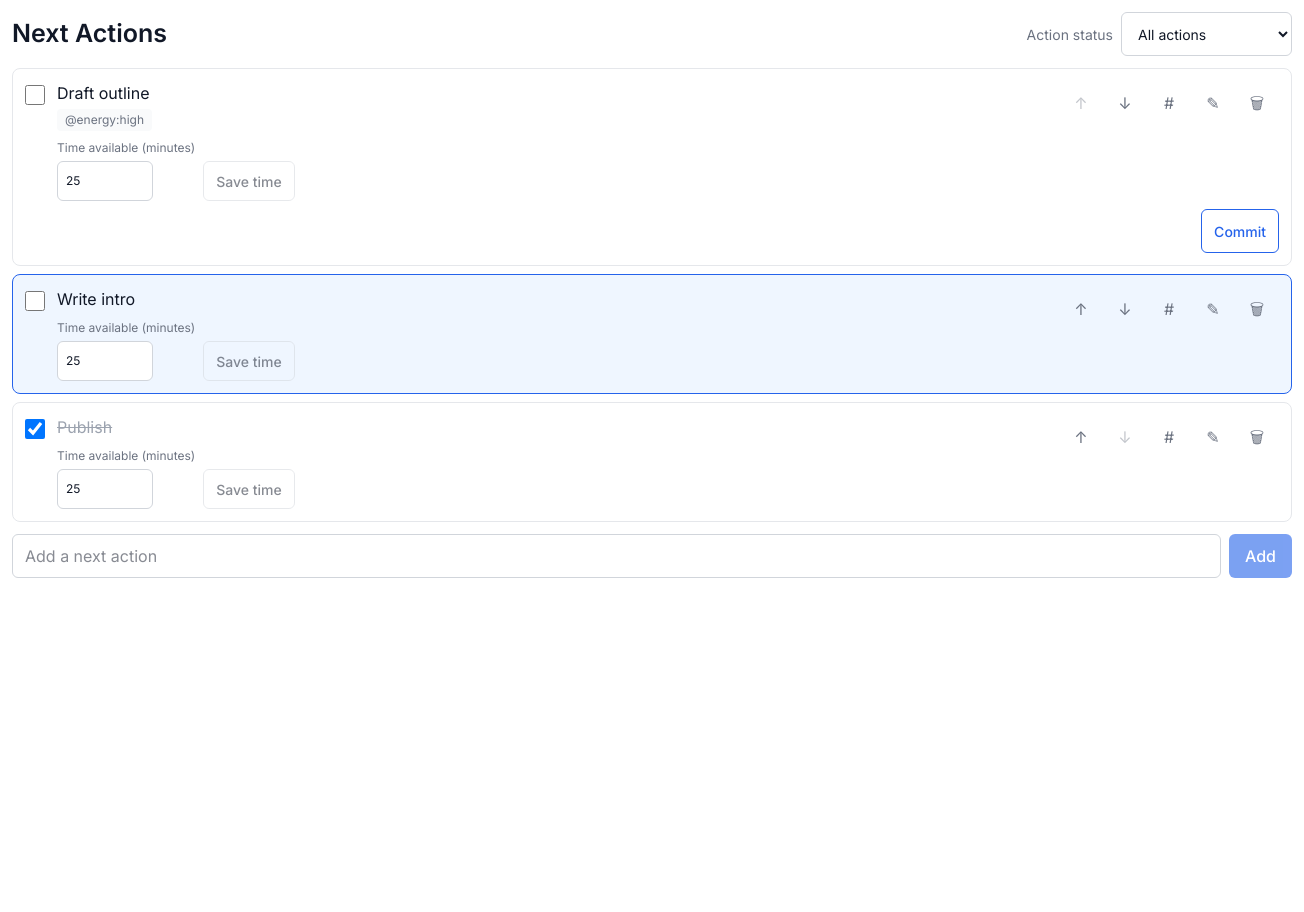
Test: ActionList › surfaces an error when a mutation fails
In the field named "New action": (616, 556) [12,534,1221,578], type "X"
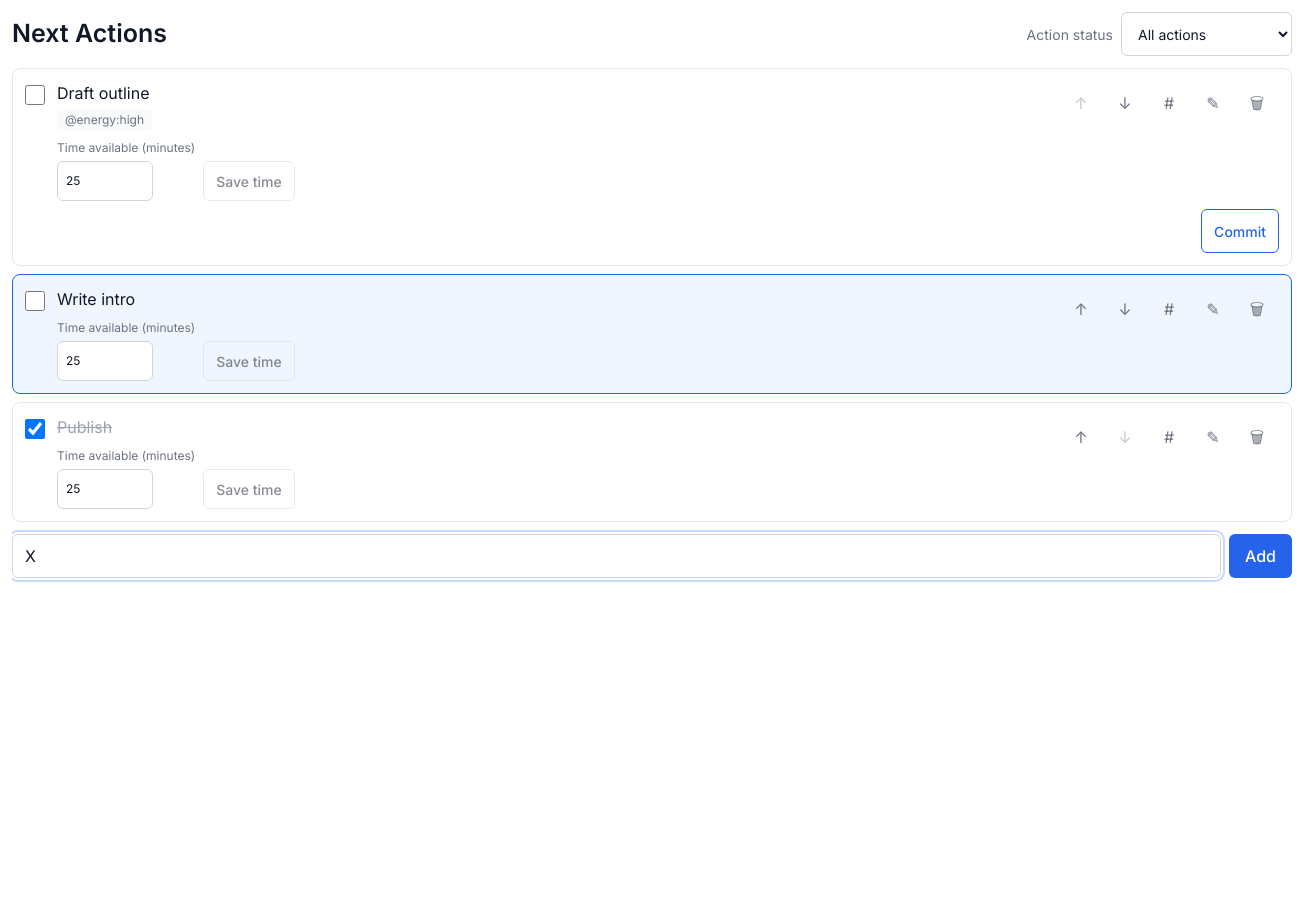
Click the button "Add": (1260, 556) [1229,534,1292,578]
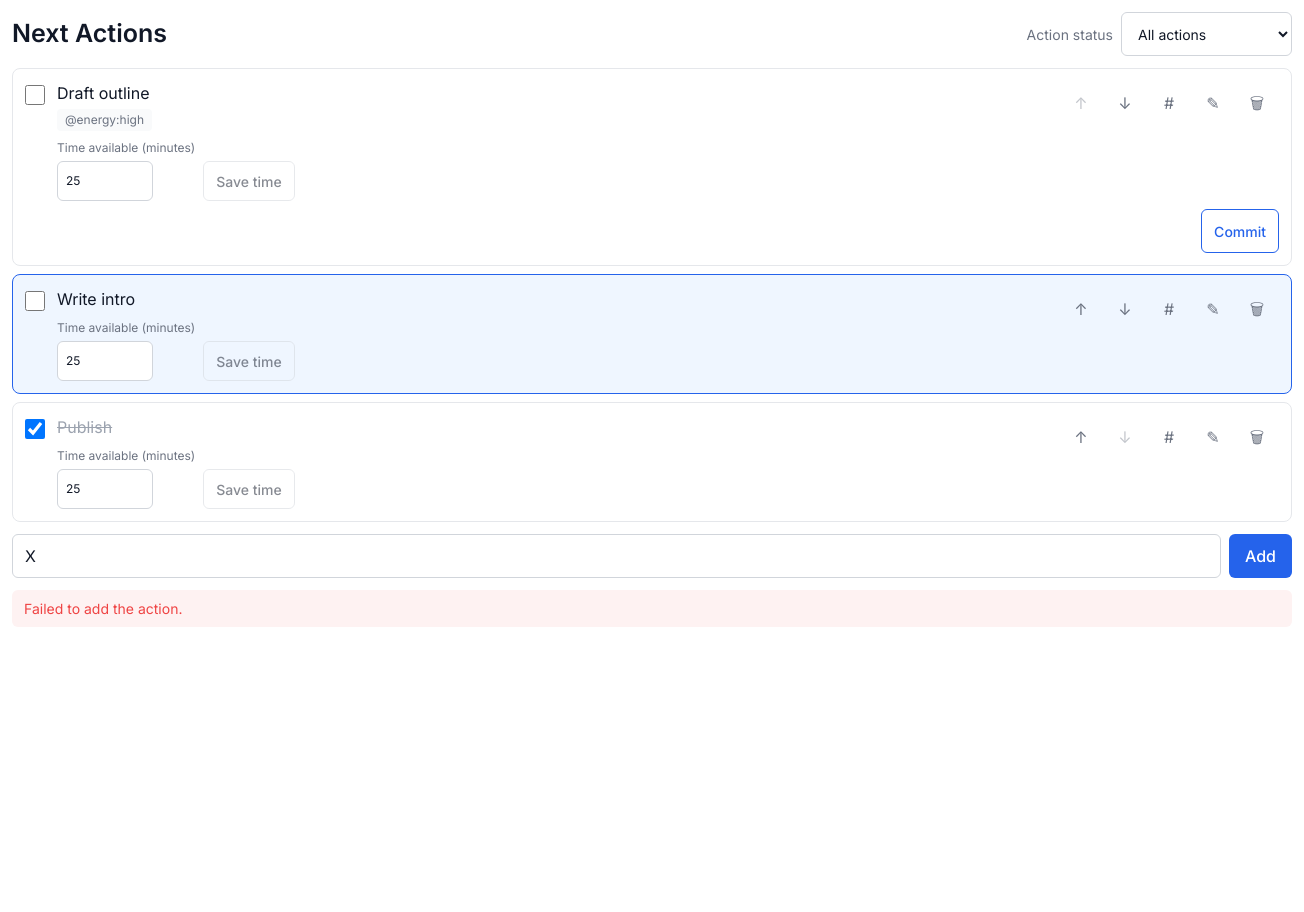
Expected: the message reads "Failed to add the action.", [24,600,182,617]
